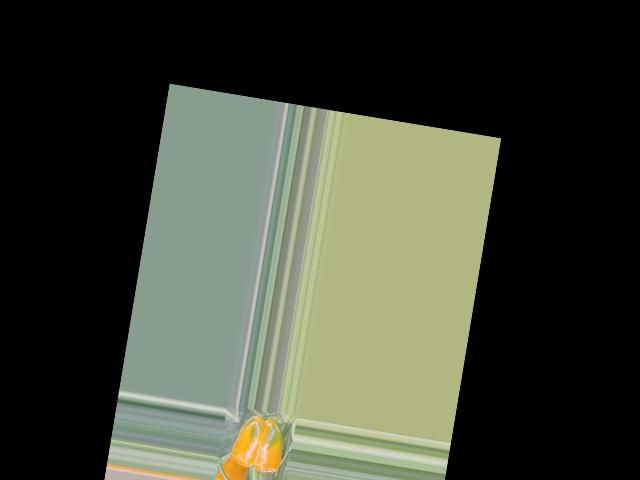bell_pepper: (226, 407, 295, 480)
